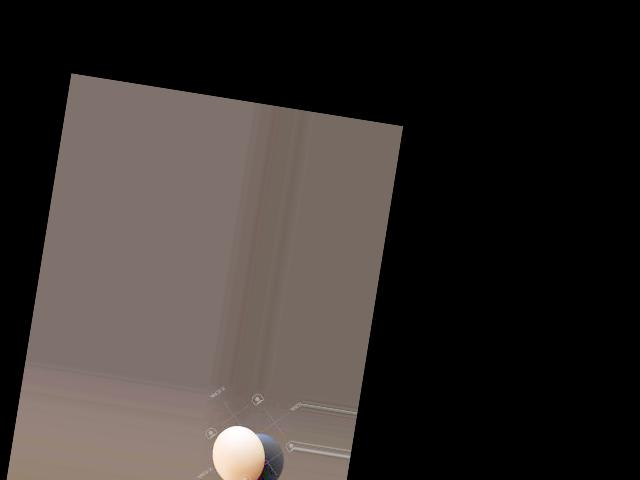egg: (207, 422, 269, 480)
